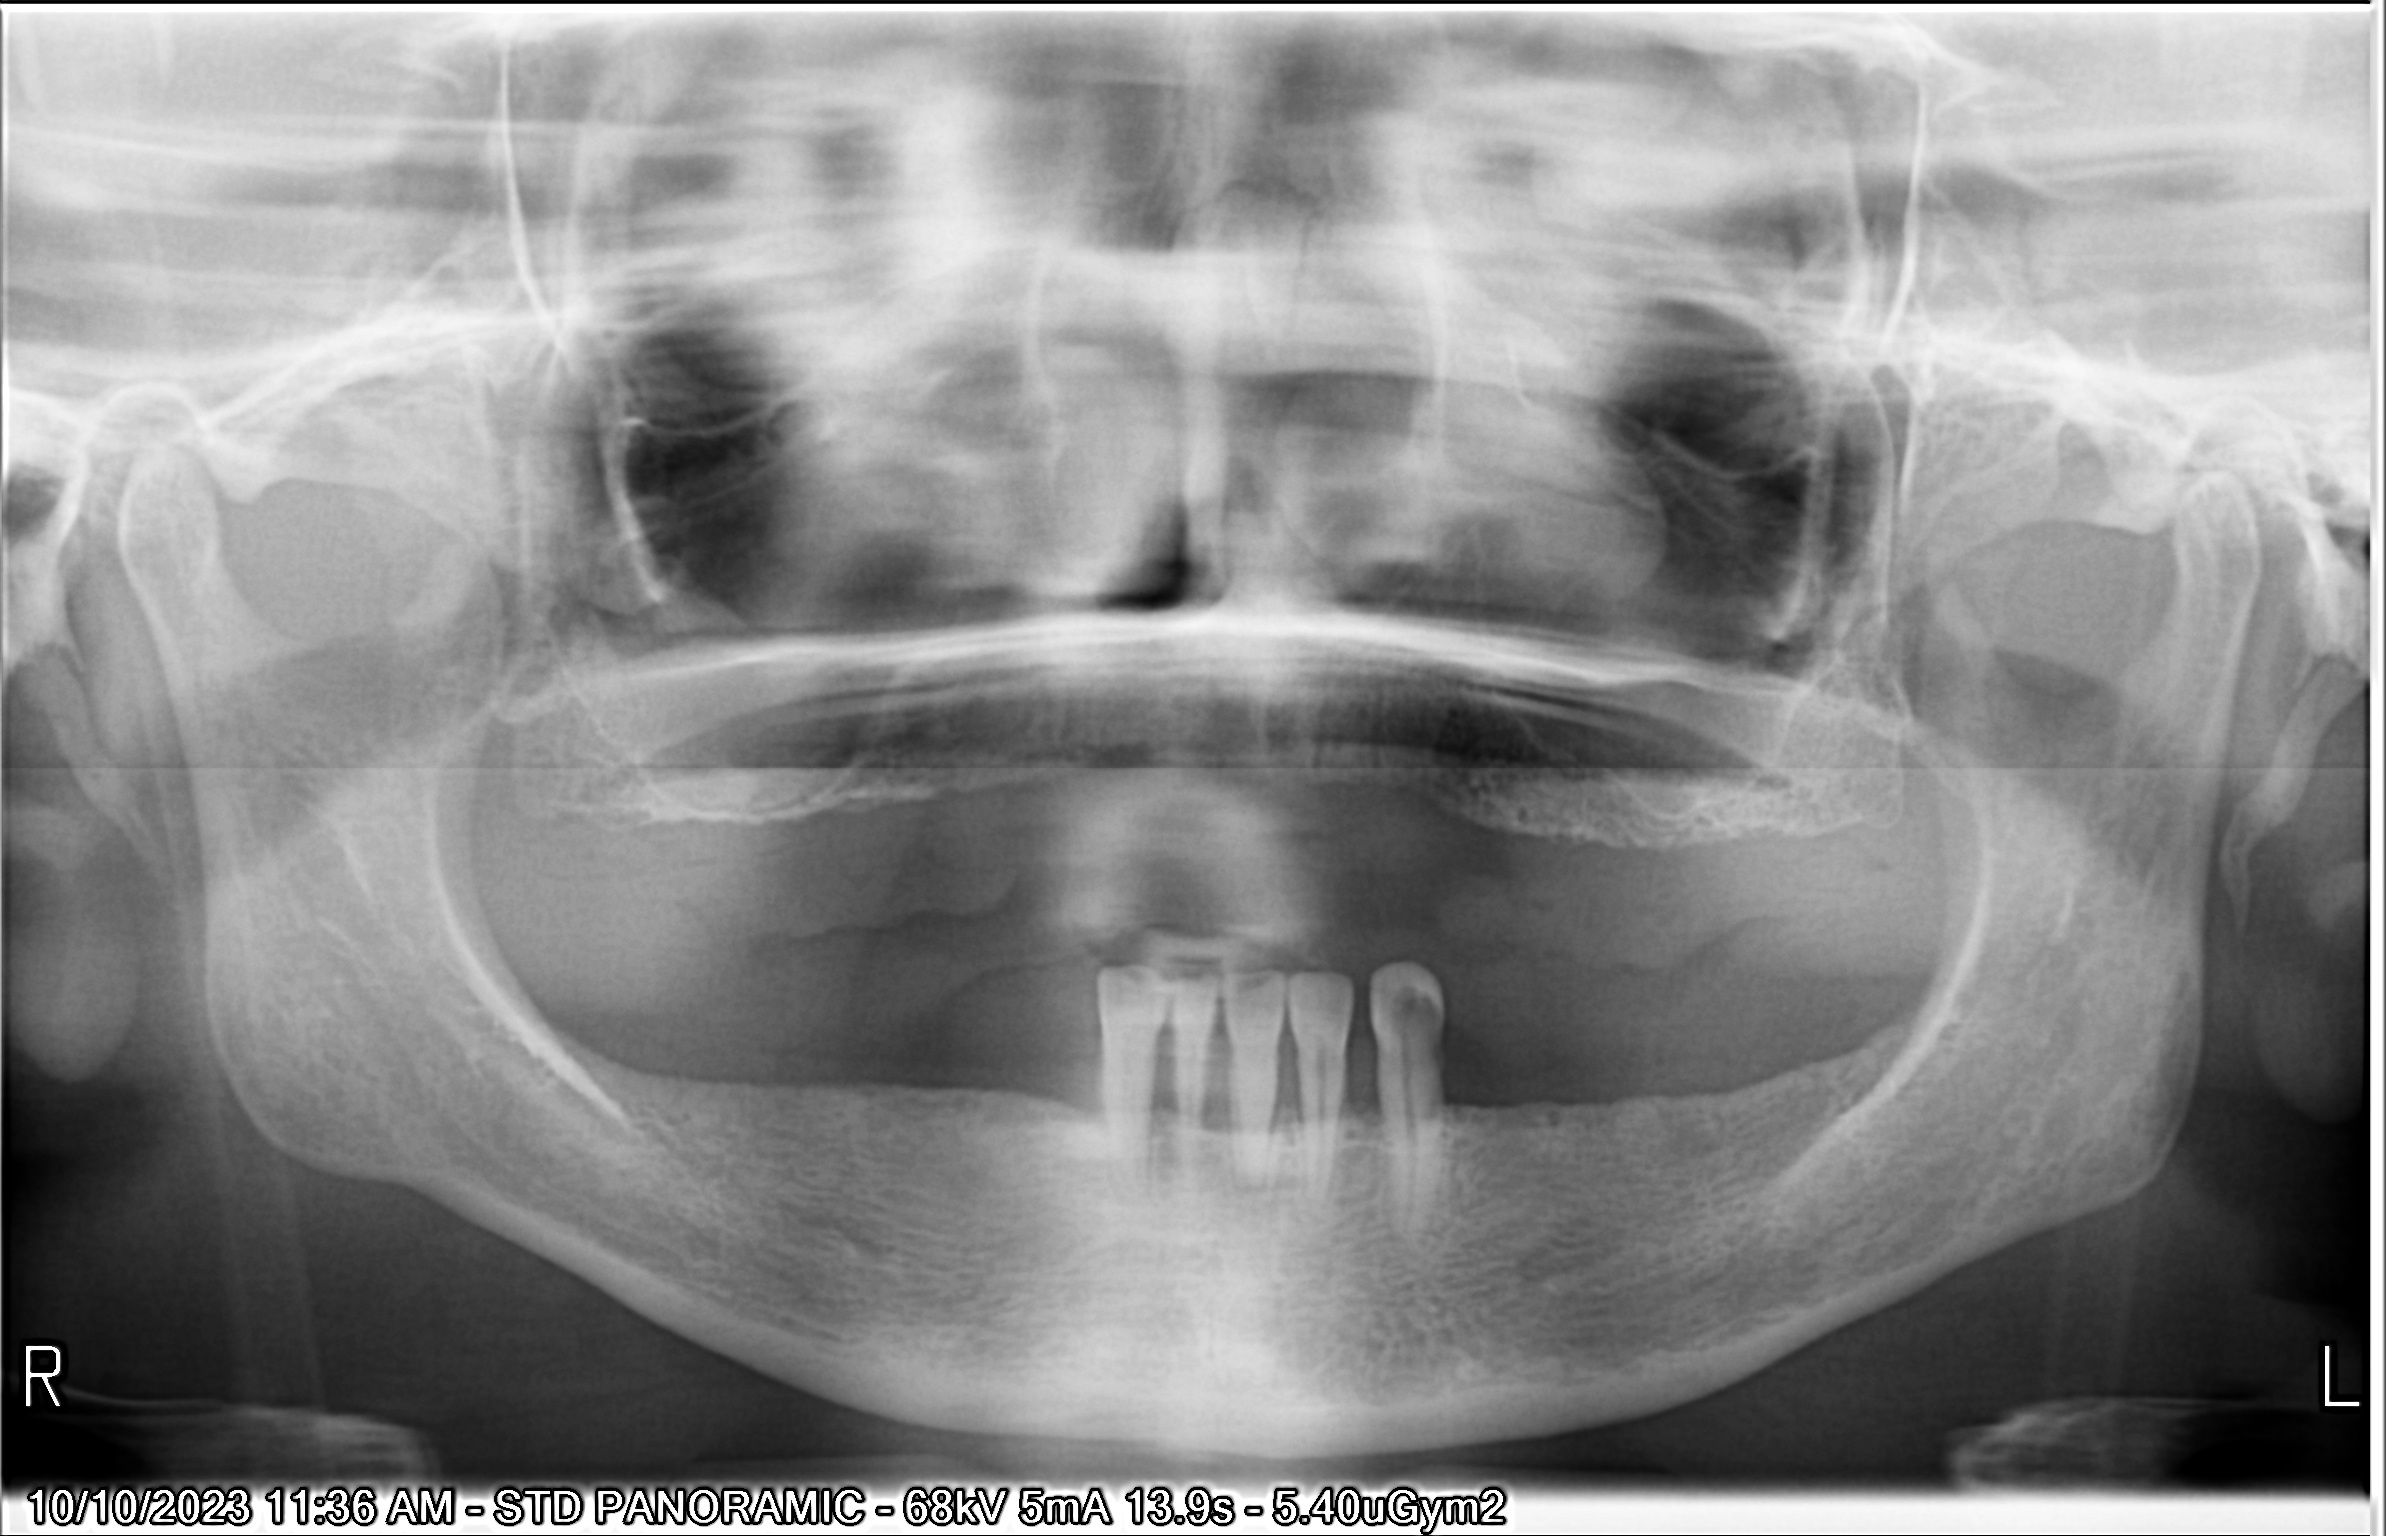BON: (1132, 1042, 1193, 1143), (1330, 1042, 1390, 1131), (1257, 1054, 1315, 1139), (1195, 1054, 1243, 1143)
